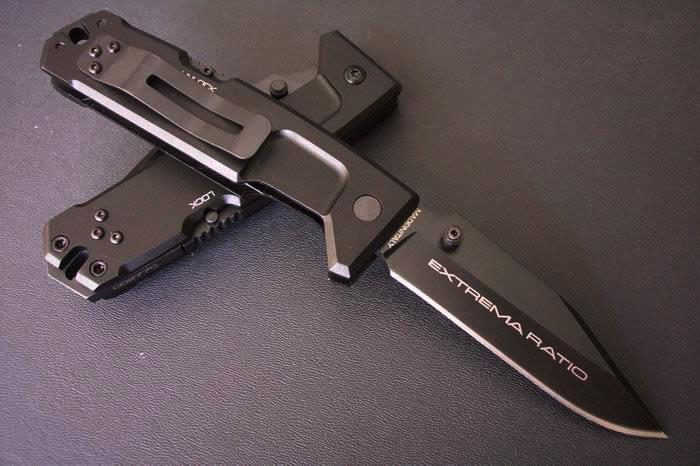knife: (318, 163, 679, 450)
